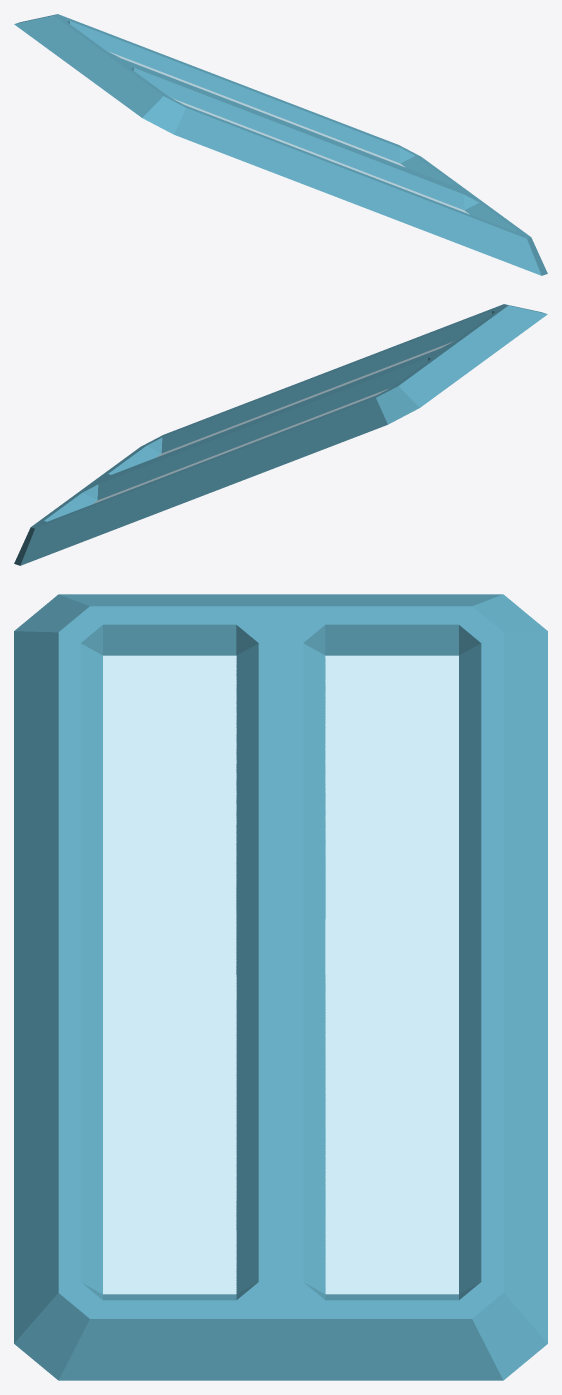
Rendered from spacestation_structure_fuselage_straight_windows.glb.
The picture shows the model from 3 angles, top to bottom: view 1: azimuth 30°, elevation 25°; view 2: azimuth 150°, elevation 25°; view 3: azimuth 270°, elevation 25°; orthographic projection. The views are drawn at different scales.
Bounding box in the file's own units: 0.9143 × 0.5657 × 0.6.
